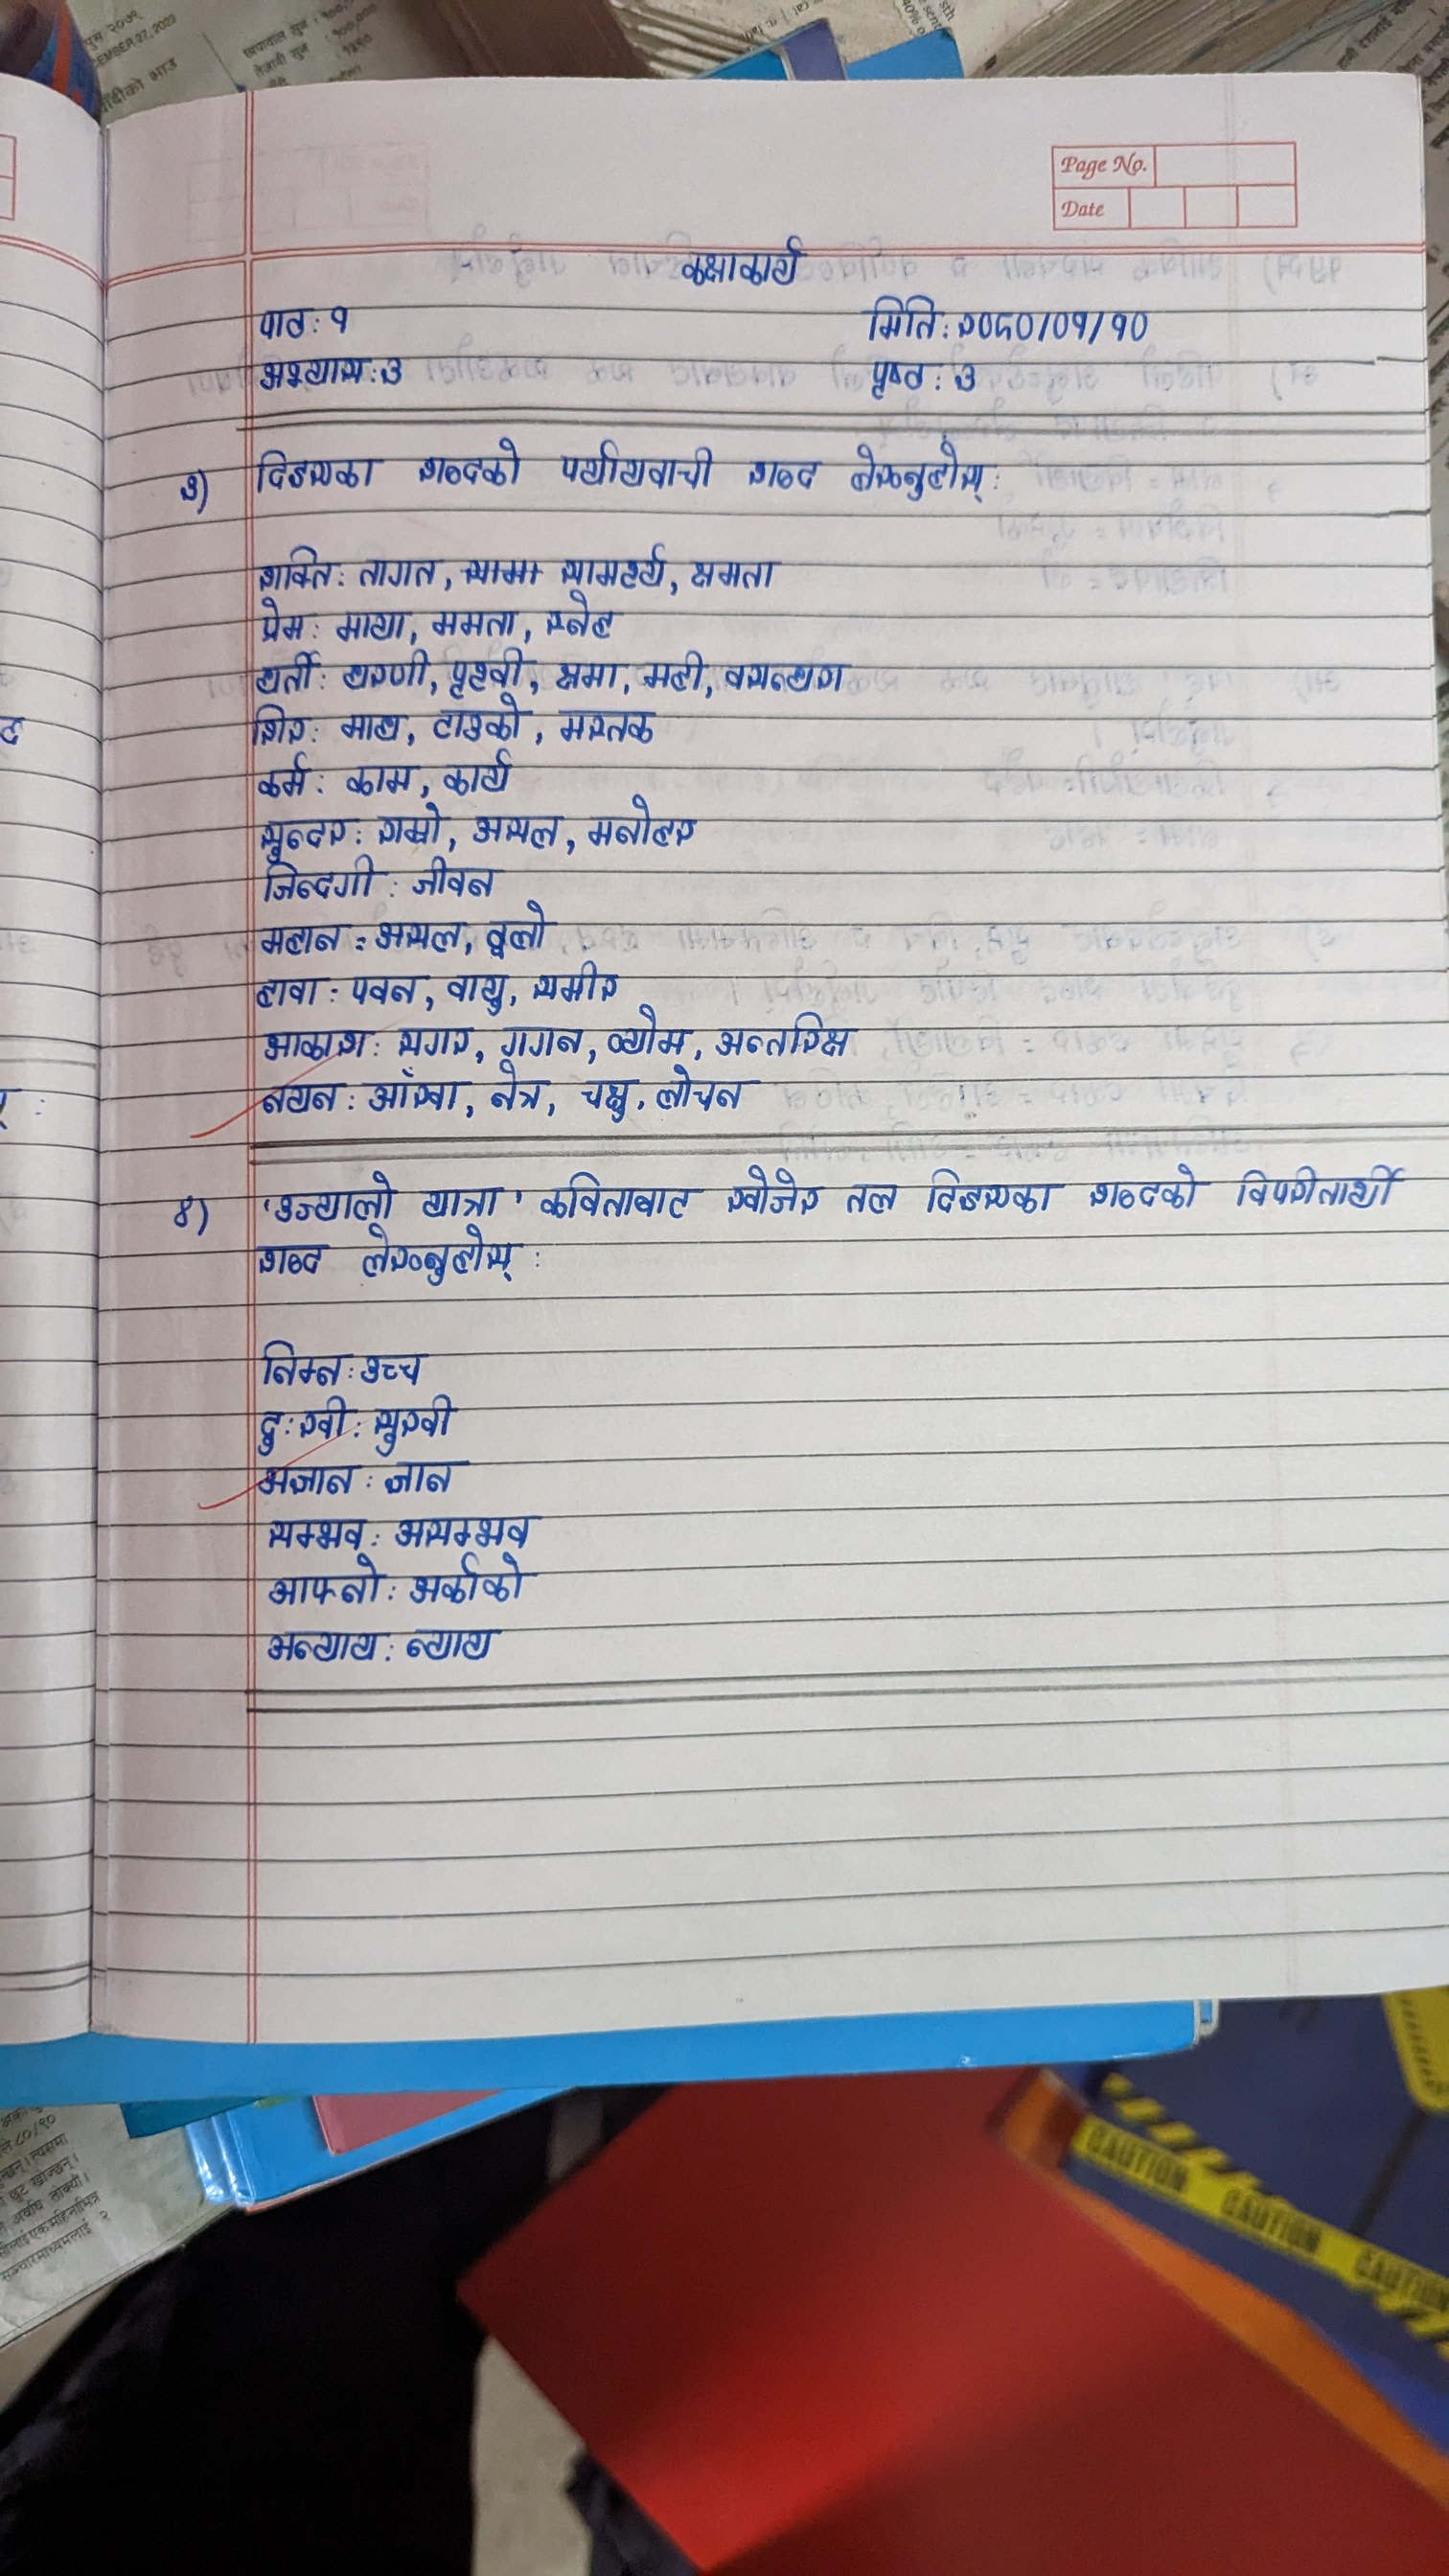text: (354, 1223, 531, 1286), (847, 433, 998, 506), (1223, 1155, 1403, 1214), (533, 1161, 692, 1224), (674, 225, 812, 290), (554, 441, 715, 494), (915, 1161, 1062, 1217), (1077, 1157, 1201, 1215), (387, 1506, 543, 1552), (715, 1159, 821, 1226), (412, 430, 522, 494), (260, 1555, 382, 1612), (249, 451, 387, 501), (272, 1169, 395, 1223), (709, 1010, 849, 1056), (586, 793, 695, 851), (720, 651, 847, 699), (651, 1060, 747, 1122), (405, 1555, 529, 1603), (246, 1394, 349, 1451), (554, 540, 671, 589), (251, 1626, 382, 1668), (370, 1394, 460, 1454), (550, 701, 662, 745), (258, 862, 377, 902), (255, 352, 368, 395), (248, 1237, 336, 1284), (258, 1338, 343, 1387), (400, 1624, 497, 1667), (741, 448, 824, 497), (364, 1072, 460, 1115), (253, 1513, 366, 1548), (600, 1008, 686, 1054), (248, 816, 345, 856), (251, 541, 331, 591), (430, 699, 518, 743), (448, 644, 525, 694), (686, 550, 777, 593), (538, 593, 617, 640), (863, 290, 939, 340), (414, 856, 502, 899), (412, 1177, 501, 1219), (258, 1026, 370, 1060), (255, 1079, 341, 1122), (338, 649, 428, 690), (860, 354, 934, 402), (527, 962, 617, 1001), (639, 644, 704, 697), (467, 812, 559, 849), (373, 915, 465, 952), (485, 904, 548, 957), (439, 754, 515, 798), (257, 1463, 356, 1497), (389, 1021, 472, 1060), (372, 803, 444, 847), (488, 1063, 547, 1118), (246, 752, 315, 798), (361, 1341, 430, 1387), (246, 651, 320, 694), (258, 924, 347, 959), (430, 603, 517, 639), (495, 1021, 582, 1056), (955, 303, 1030, 343), (833, 1177, 908, 1217), (341, 761, 418, 800), (249, 971, 322, 1012), (244, 706, 313, 748), (577, 1067, 628, 1123), (357, 556, 439, 591), (444, 971, 511, 1014), (379, 1461, 455, 1499), (338, 702, 407, 743), (347, 970, 421, 1007), (552, 655, 619, 694), (253, 299, 311, 343), (334, 607, 407, 642), (257, 600, 306, 646), (166, 1191, 205, 1247), (1049, 301, 1093, 350), (1106, 304, 1154, 349), (175, 462, 207, 510), (377, 350, 407, 386), (952, 359, 982, 393), (327, 299, 356, 334)
